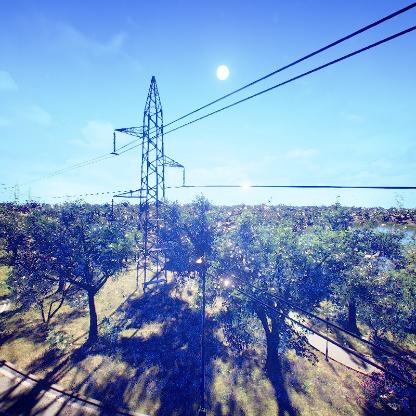tower: (109, 73, 192, 307)
